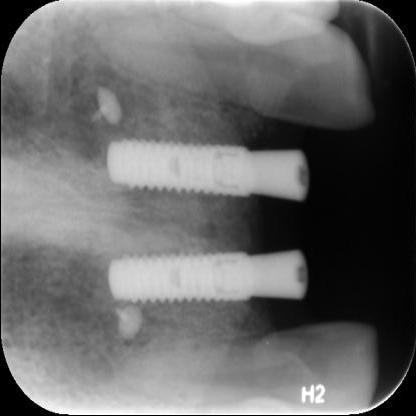ITI: (102, 126, 252, 212), (98, 236, 254, 318)
